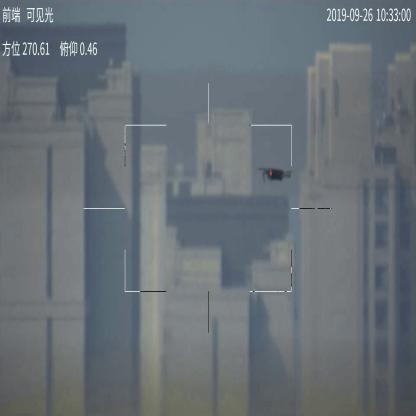uav: (257, 165, 294, 184)
